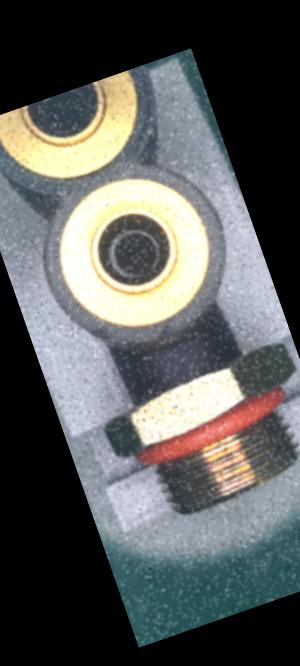bump: (83, 318, 117, 353), (146, 321, 178, 350)
white mark: (182, 365, 198, 381)
